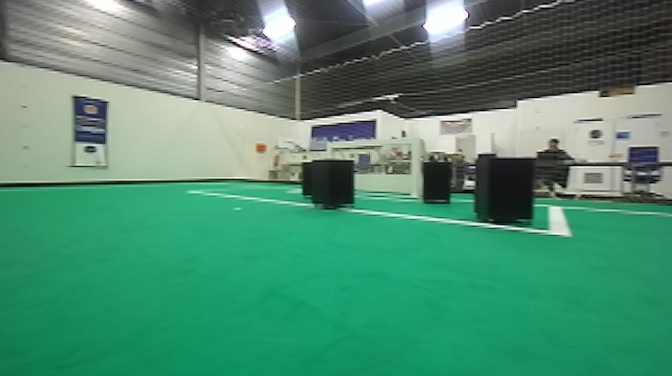goalpost: (407, 139, 420, 199), (322, 143, 335, 161)
